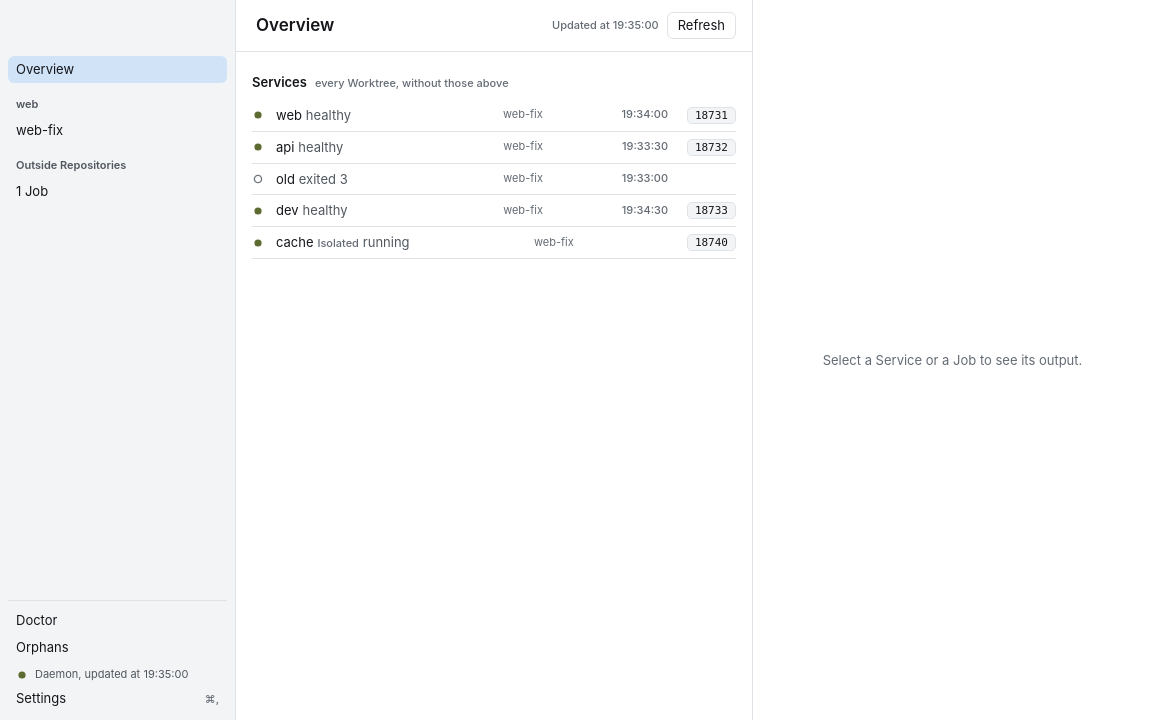
Test: the Worktree screen › picks a Foreign container too, which has no pid and so no kill command
Click the button "web-fix".
click(118, 130)  # box [8,117,227,144]
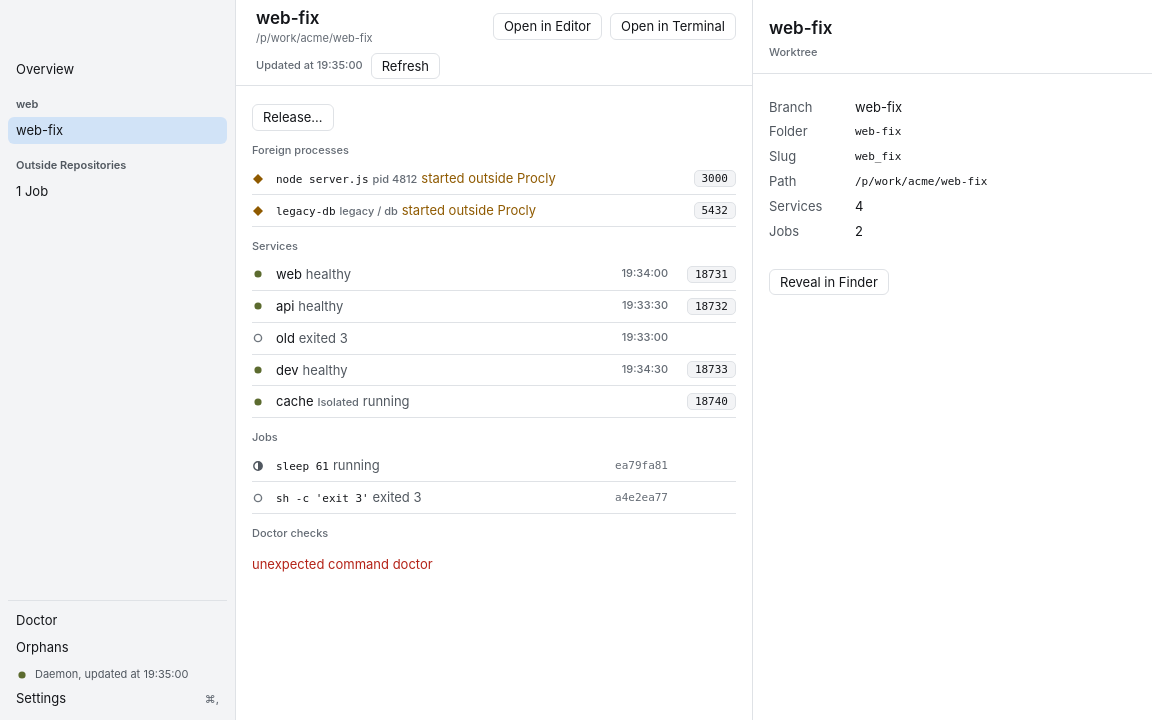
Result: the heading "Services" is shown at [252,239,298,253]
Click the button "legacy-db".
click(460, 211)  # box [252,201,668,220]
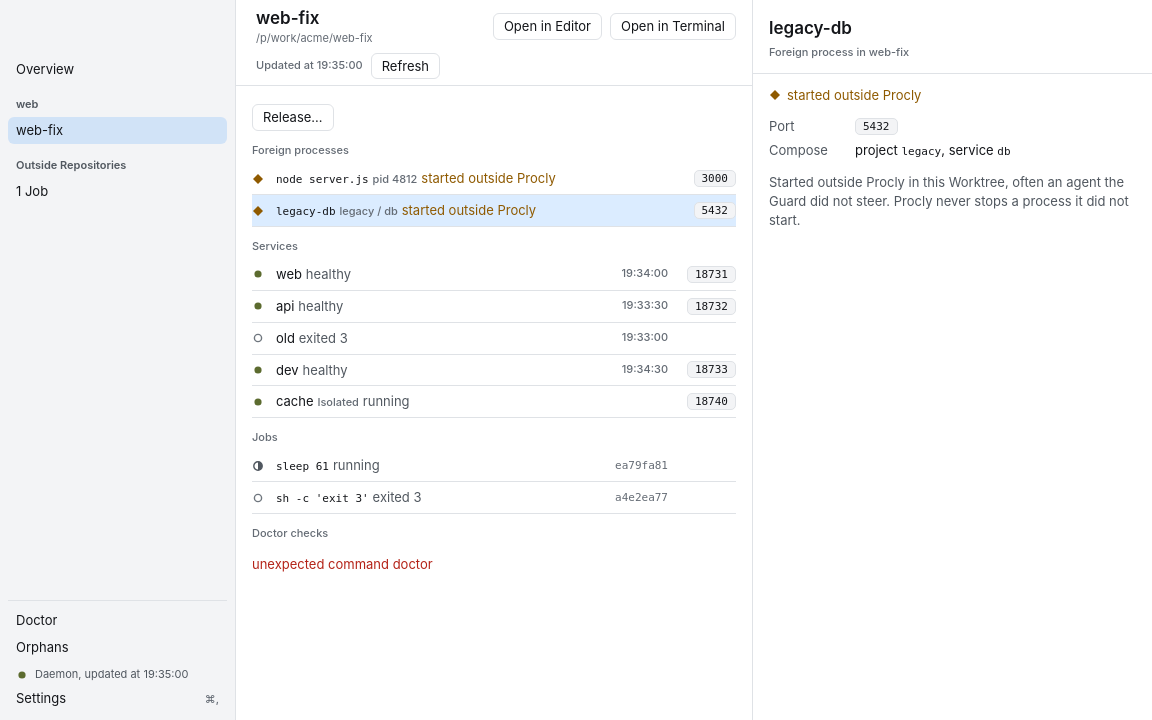
Result: the heading "legacy-db" is shown at [769,18,852,38]
Result: the text "started outside Procly" below "Foreign process in web-fix" is shown at [787,87,921,103]
Result: the text "Foreign process in web-fix" is shown at [769,45,909,59]
